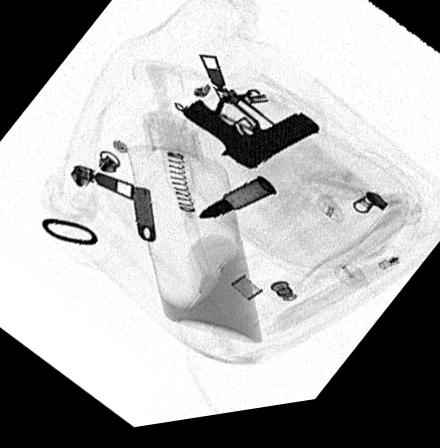Bullet: (197, 184, 275, 223)
Gun: (179, 101, 324, 178)
